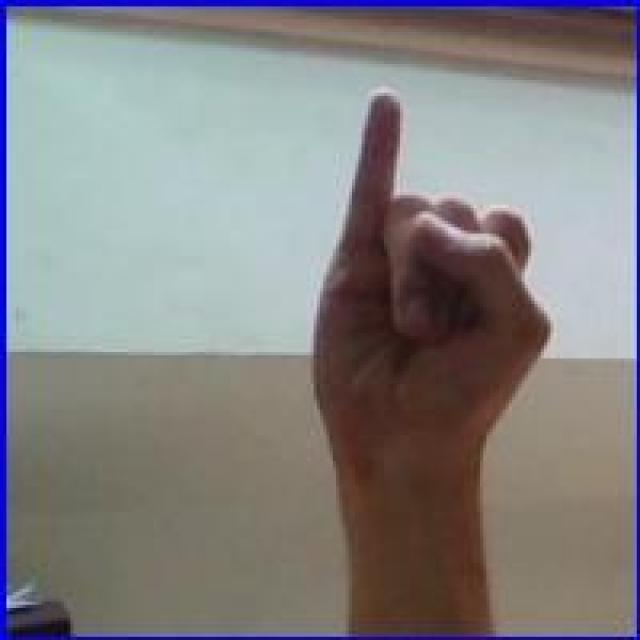I: (312, 77, 558, 506)
